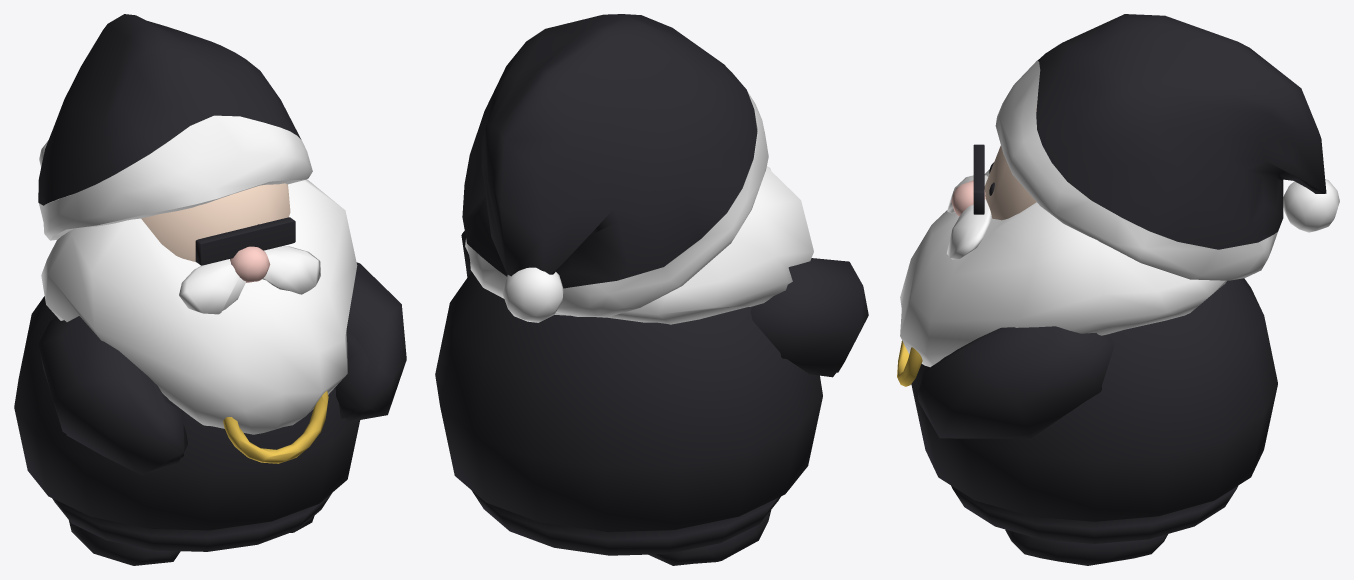
Rendered from vip.glb.
3 views of the same model, side by side, from view 1: azimuth 30°, elevation 25°; view 2: azimuth 150°, elevation 25°; view 3: azimuth 270°, elevation 25° (orthographic). The views are drawn at different scales.
Visible parts, largest first — view 1: vip_red, vip_white, vip_skin, vip_black, vip_gold, vip_nose; view 2: vip_red, vip_white, vip_black; view 3: vip_red, vip_white, vip_black, vip_skin, vip_gold, vip_nose.
Boxes of the visible parts, x1=… form: vip_red: x1=14, y1=14, x2=406, y2=551; vip_white: x1=39, y1=115, x2=357, y2=434; vip_skin: x1=141, y1=138, x2=290, y2=261; vip_black: x1=69, y1=217, x2=314, y2=565; vip_gold: x1=223, y1=391, x2=328, y2=463; vip_nose: x1=230, y1=246, x2=270, y2=282; vip_red: x1=435, y1=14, x2=868, y2=555; vip_white: x1=465, y1=72, x2=813, y2=324; vip_black: x1=648, y1=510, x2=771, y2=565; vip_red: x1=911, y1=14, x2=1326, y2=543; vip_white: x1=900, y1=60, x2=1339, y2=367; vip_black: x1=973, y1=144, x2=1167, y2=565; vip_skin: x1=984, y1=102, x2=1091, y2=220; vip_gold: x1=897, y1=340, x2=922, y2=386; vip_nose: x1=951, y1=180, x2=985, y2=216.
Size of the model in its own units: 2.25 by 2.98 by 2.41.
